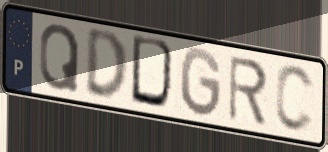C: (273, 63, 317, 136)
D: (129, 32, 180, 114), (83, 28, 130, 105)
G: (178, 45, 224, 121)
Q: (38, 22, 82, 95)
R: (227, 54, 270, 129)
